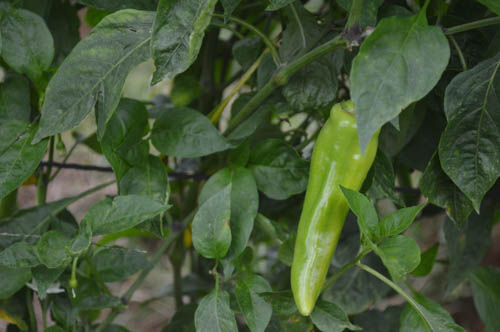ChiliPepper: (290, 107, 381, 317)
